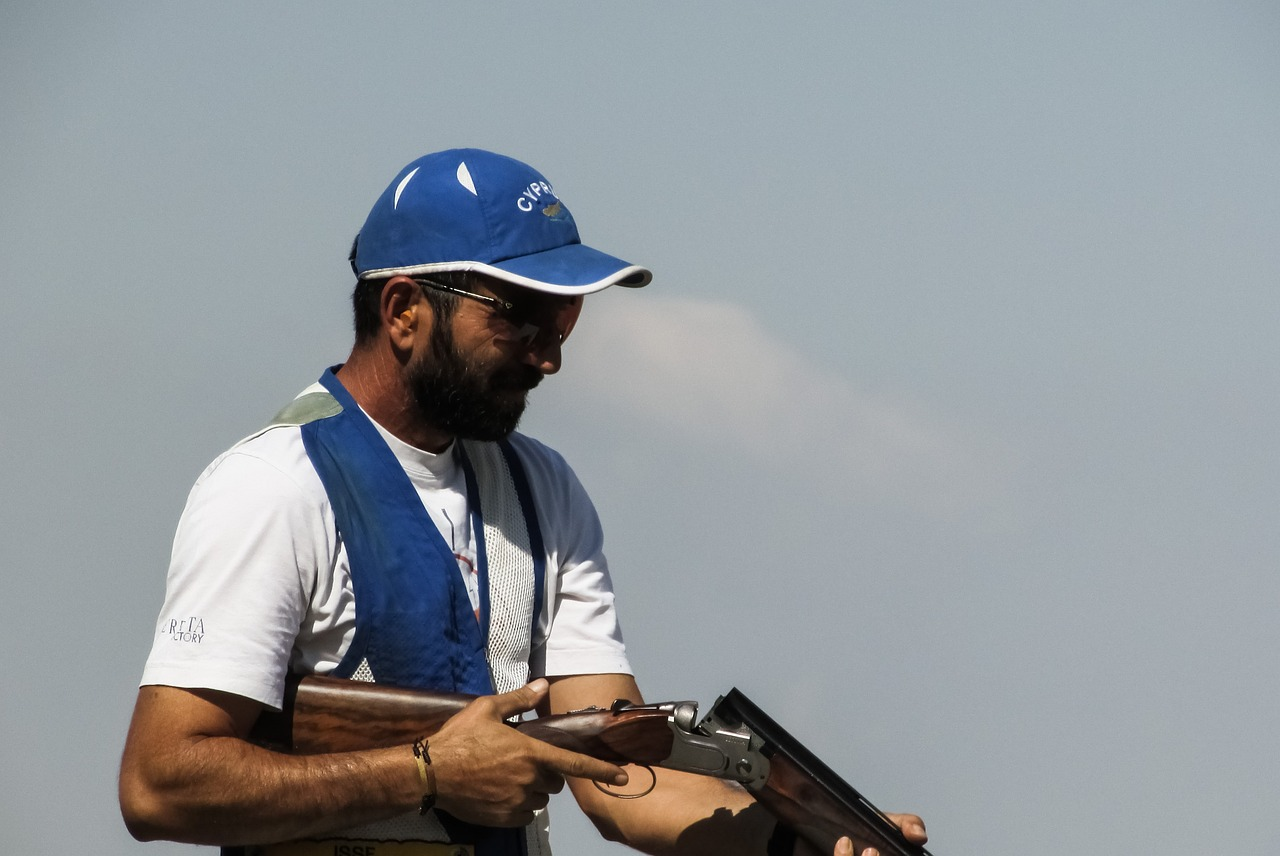gun: (270, 663, 939, 856)
